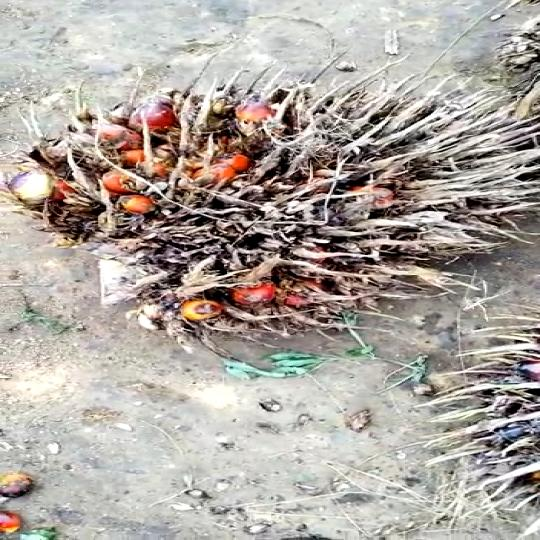terlalu masak: (0, 50, 540, 346)
